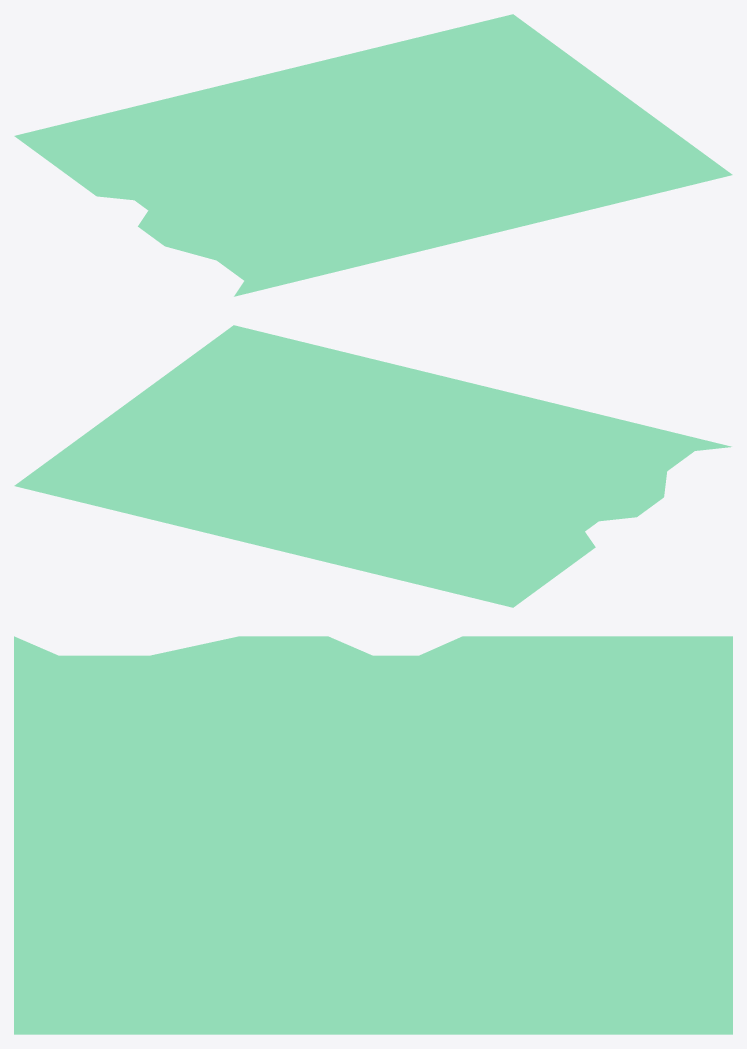
File: level3Poison.fbx
3 renders of one model, top to bottom at view 1: azimuth 30°, elevation 25°; view 2: azimuth 150°, elevation 25°; view 3: azimuth 270°, elevation 25°, orthographic. The views are drawn at different scales.
Parts seen in each view (by area): view 1: square_forest_detail.009; view 2: square_forest_detail.009; view 3: square_forest_detail.009.
Boxes of the visible parts, left/top/right/bottom form: square_forest_detail.009: left=14, top=14, right=732, bottom=296; square_forest_detail.009: left=14, top=325, right=731, bottom=607; square_forest_detail.009: left=14, top=636, right=732, bottom=1034.
Size of the model in its own units: 4202 by 7.22e-06 by 3205.
